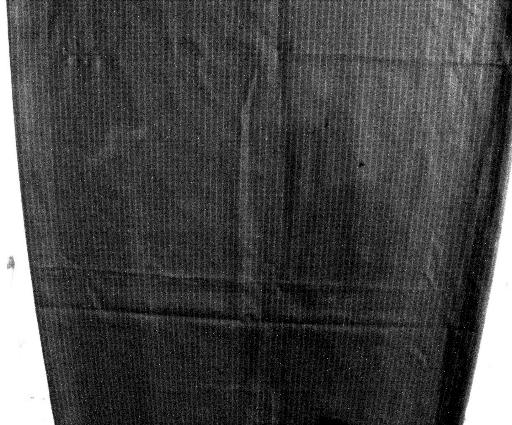fabric_hole: (321, 115, 333, 132), (356, 156, 366, 172)
